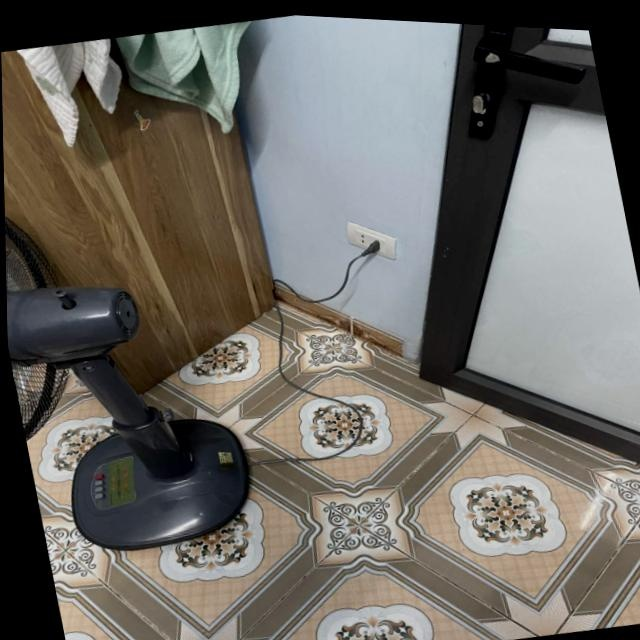outlet: (342, 213, 400, 267)
